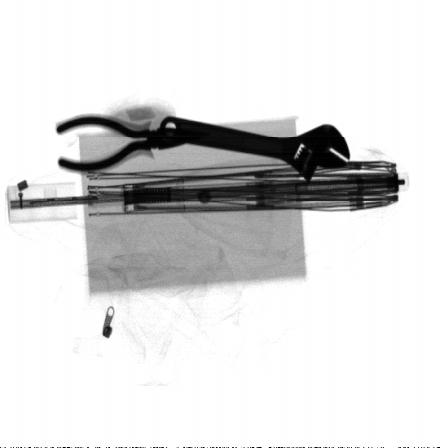Pliers: (53, 114, 182, 175)
Wrench: (160, 117, 351, 185)
